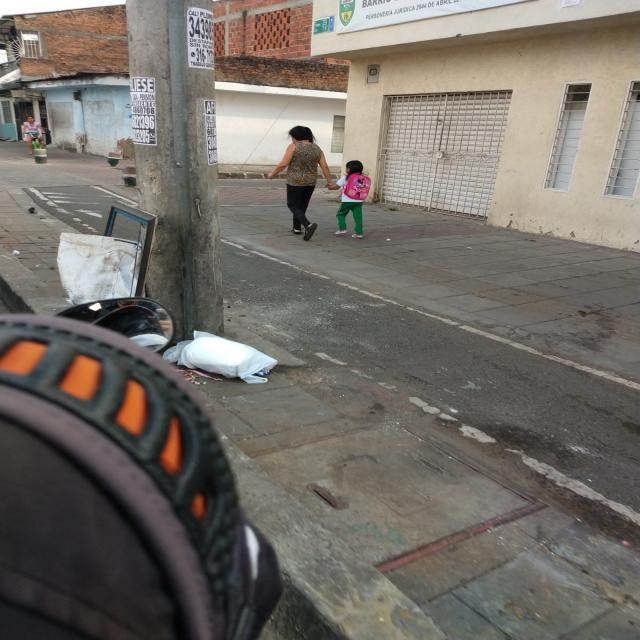Garbage_Bag: (164, 328, 282, 386)
